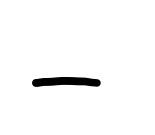minus: (32, 76, 101, 87)
